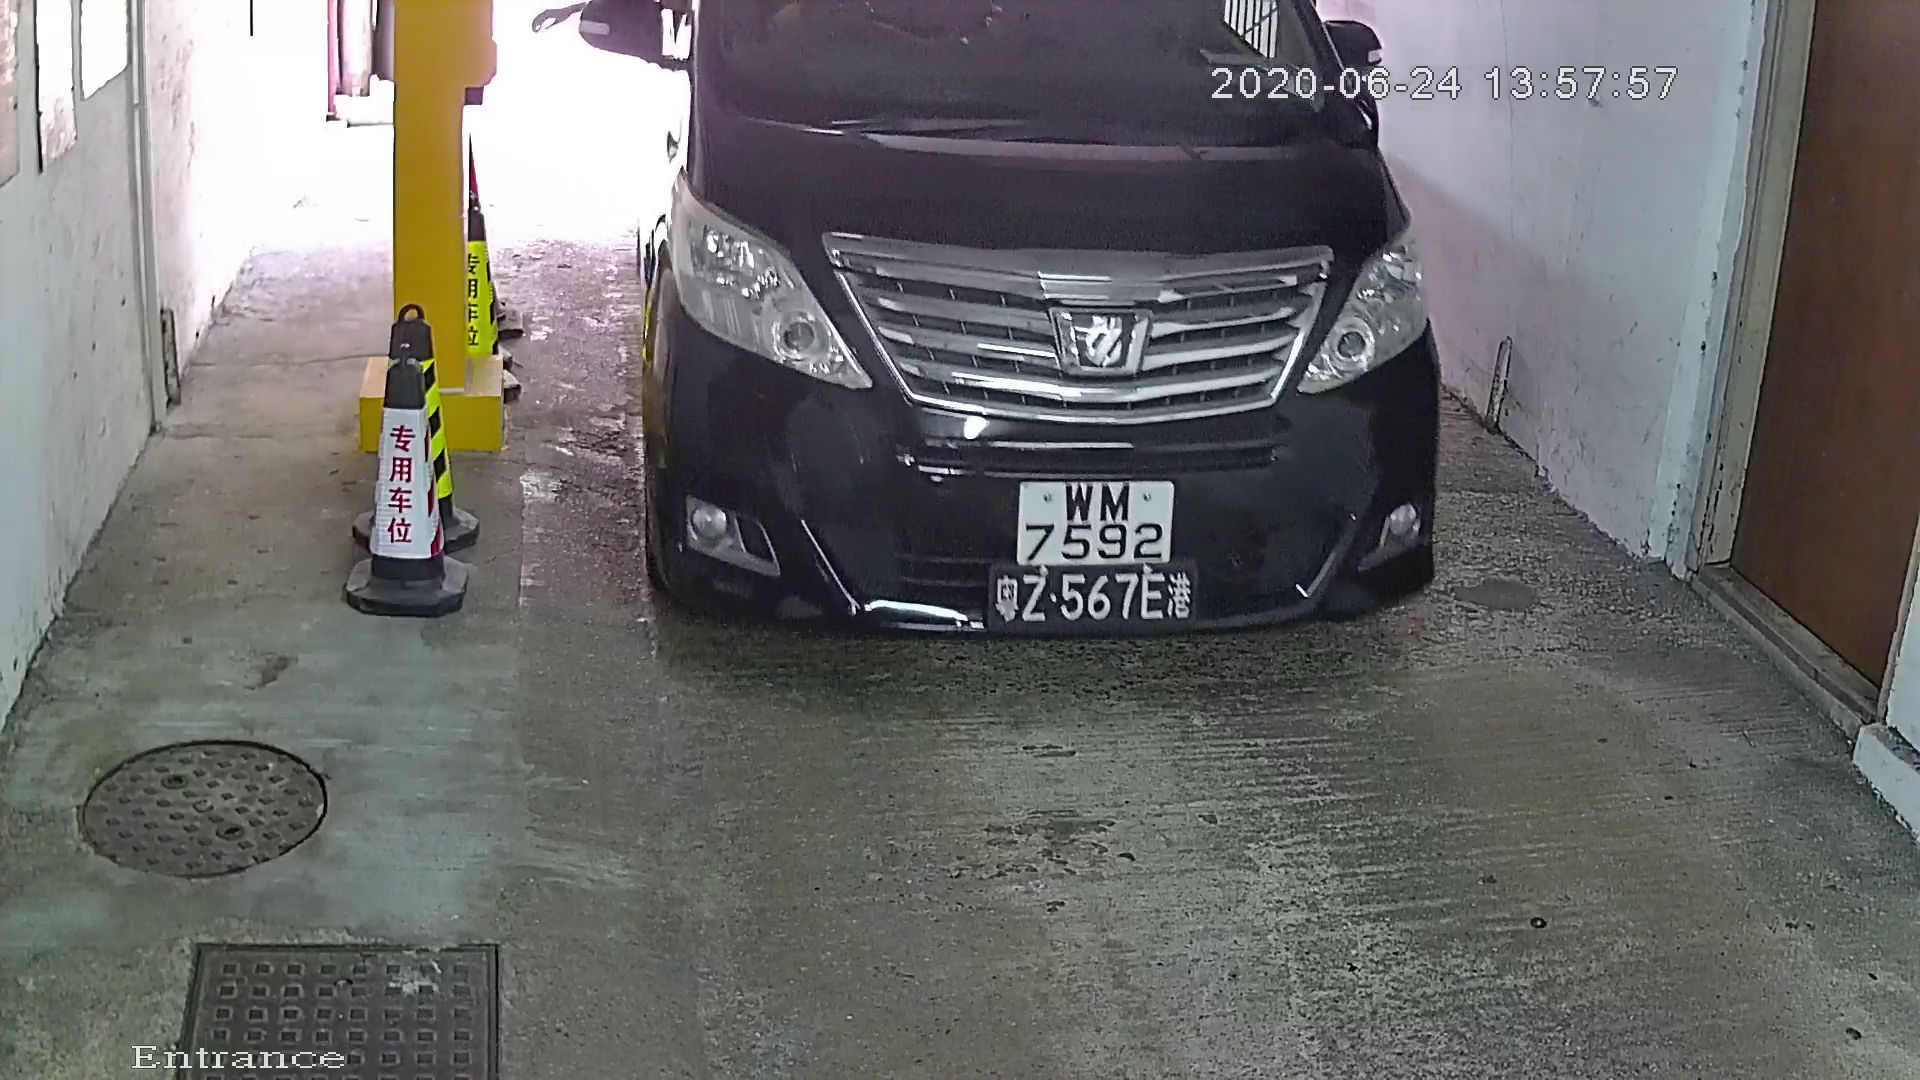Car: (590, 1, 1466, 692)
License Plate: (997, 463, 1185, 592)
